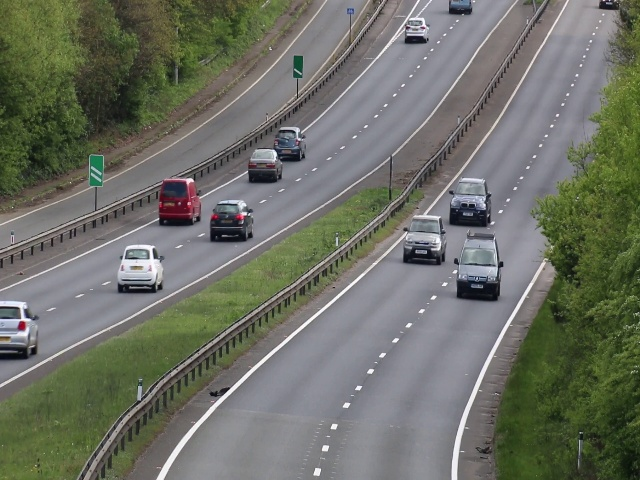car: (456, 231, 503, 301), (115, 244, 165, 292), (1, 300, 41, 360), (448, 176, 492, 226), (403, 215, 446, 265), (158, 178, 203, 225), (209, 200, 254, 243), (273, 126, 307, 161), (248, 147, 283, 181), (404, 17, 431, 43), (446, 1, 474, 13)
